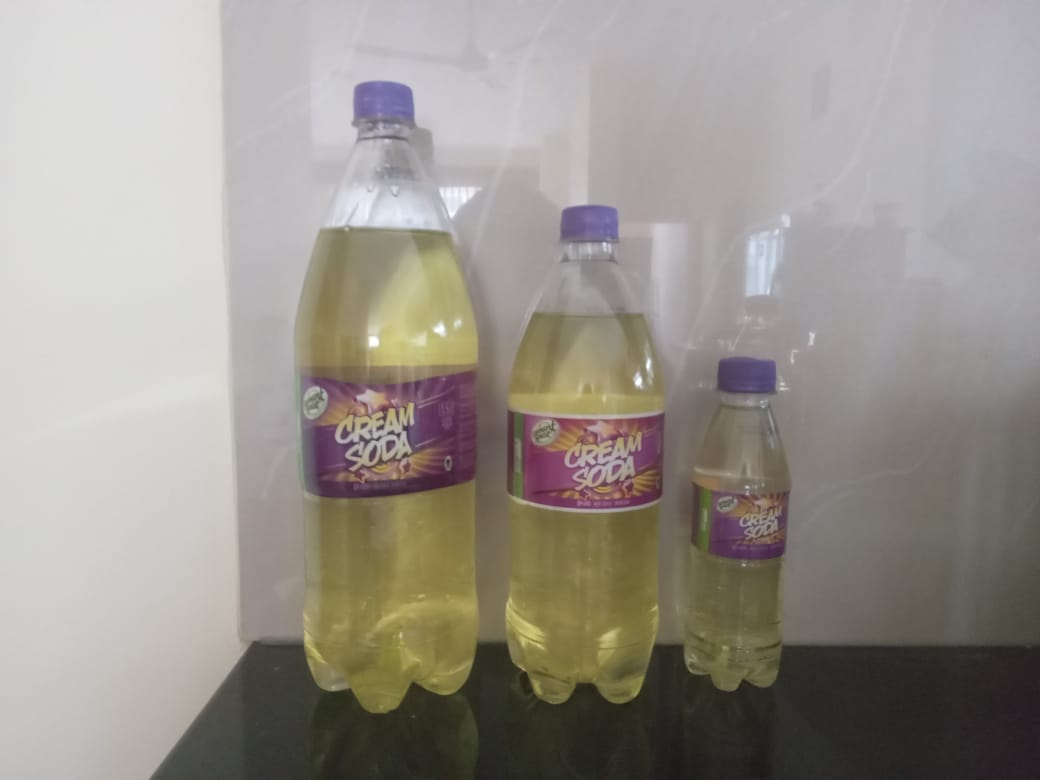L: (275, 76, 485, 717)
S: (499, 204, 673, 719)
Xs: (680, 352, 792, 697)
